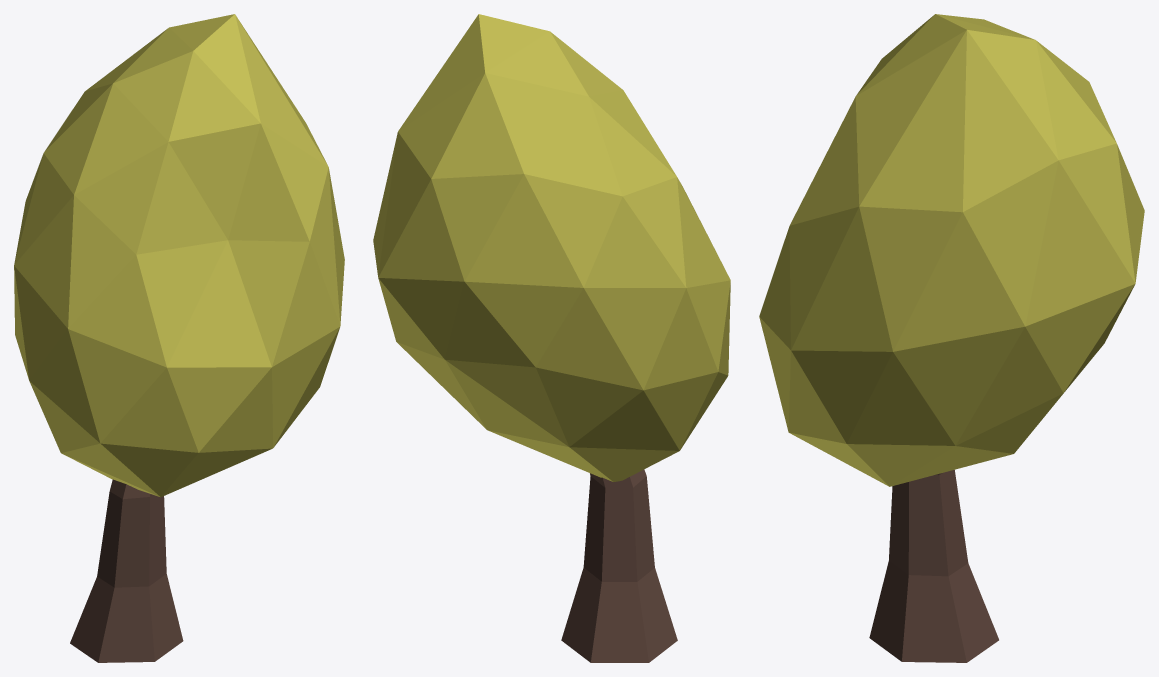
File: Tree2.fbx
The picture shows the model from 3 angles, left to right: view 1: azimuth 30°, elevation 25°; view 2: azimuth 150°, elevation 25°; view 3: azimuth 270°, elevation 25°; orthographic projection. The views are drawn at different scales.
Parts seen in each view (by area): view 1: Cylinder.004; view 2: Cylinder.004; view 3: Cylinder.004.
Part boxes in pixels (x1,y1,x2,y2): Cylinder.004: (14, 14, 344, 662); Cylinder.004: (373, 14, 730, 662); Cylinder.004: (759, 14, 1144, 662).
Size of the model in its own units: 296 by 561 by 288.
